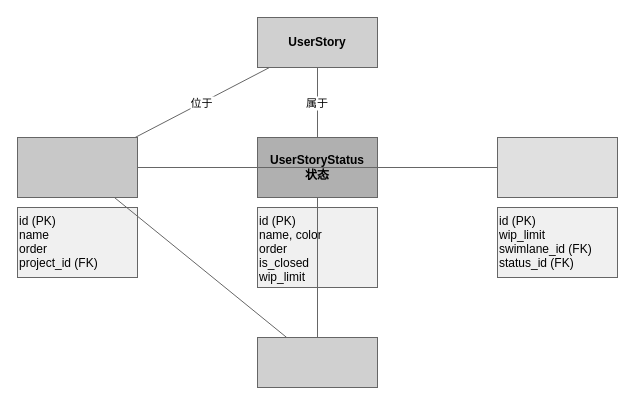
The diagram is 635 pixels wide and 405 high, and some of its shapes have lost their labels. Here are the shapes that lost their labels. From the top down, the centre of each, then its label:
At point (77, 167): "Swimlane 泳道".
At point (557, 167): "SwimlaneUser StoryStatus (泳道-状态配置)".
At point (317, 362): "Project".
